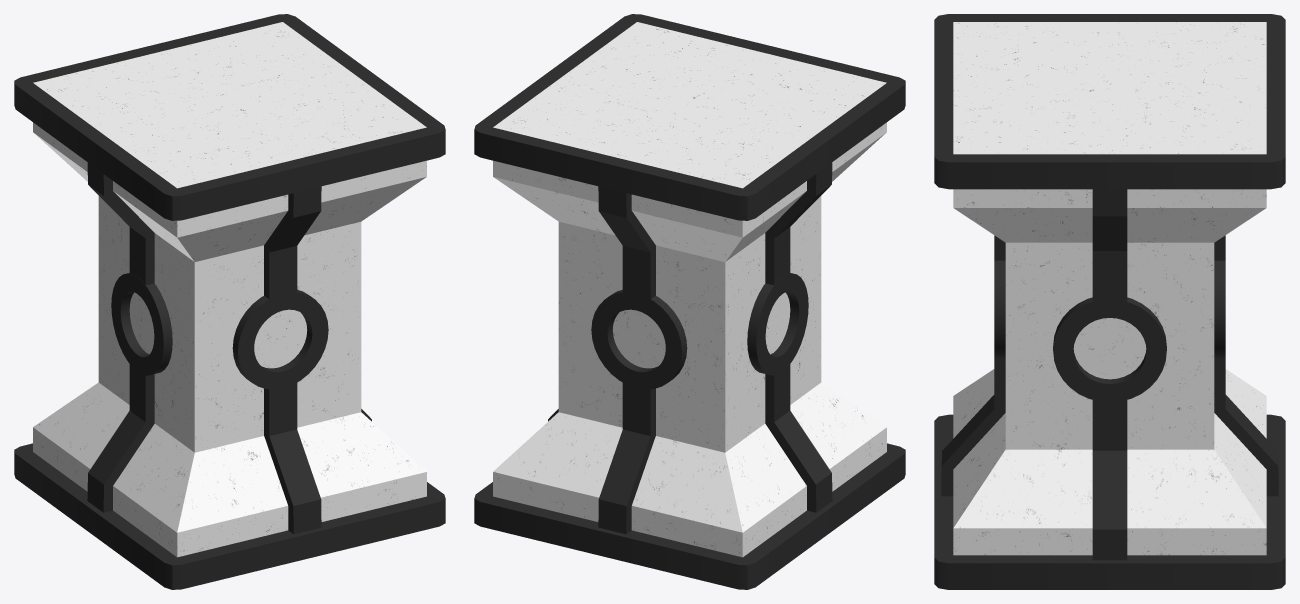
The model's file is space platform 1.1 .fbx.
3 renders of one model, left to right at view 1: azimuth 30°, elevation 25°; view 2: azimuth 150°, elevation 25°; view 3: azimuth 270°, elevation 25°, orthographic. The views are drawn at different scales.
Parts seen in each view (by area): view 1: Cube.054; view 2: Cube.054; view 3: Cube.054.
Boxes of the visible parts, <box> form: Cube.054: <box>14,14,445,589</box>; Cube.054: <box>474,14,905,589</box>; Cube.054: <box>934,14,1285,589</box>.
Size of the model in its own units: 2.24 by 3.01 by 2.24.
